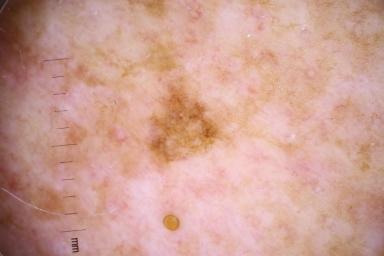melanoma: (151, 84, 216, 158)
